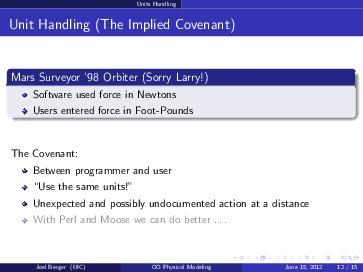paragraph: (19, 158, 331, 234), (15, 84, 230, 128)
subtitle: (8, 70, 213, 86), (9, 138, 94, 161)
title: (5, 10, 250, 40)
